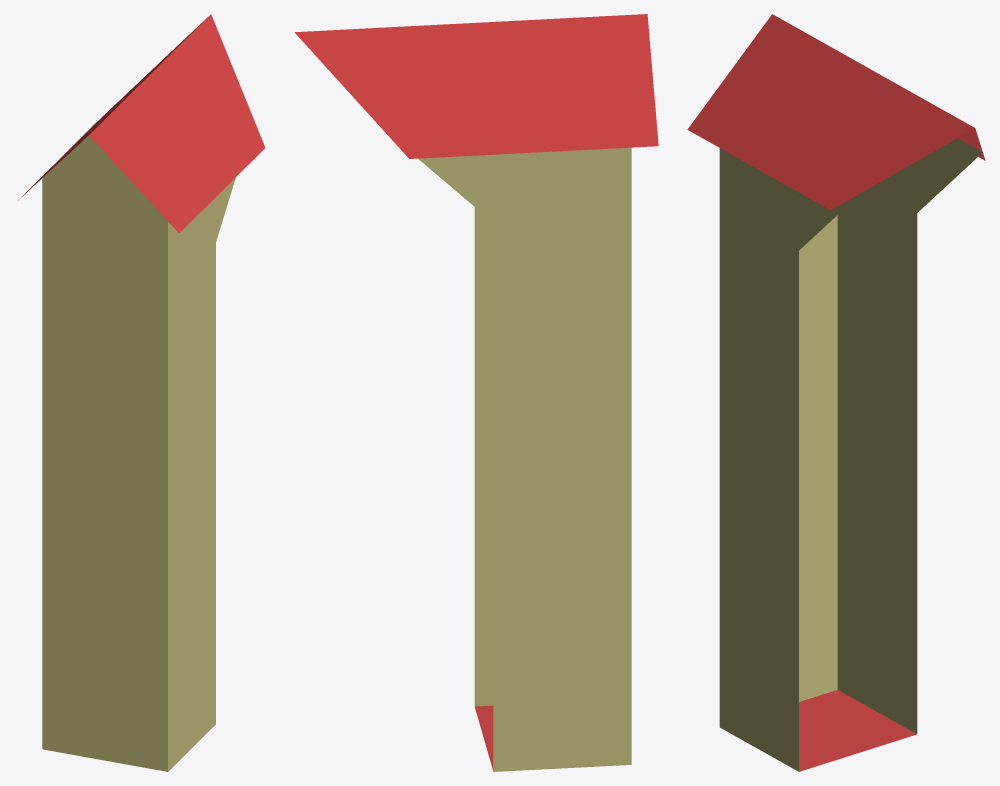
3 views of the same model, side by side, from view 1: azimuth 30°, elevation 25°; view 2: azimuth 150°, elevation 25°; view 3: azimuth 270°, elevation 25° (orthographic). The views are drawn at different scales.
Bounding box in the file's own units: 7.03 × 6.5 × 16.44.
